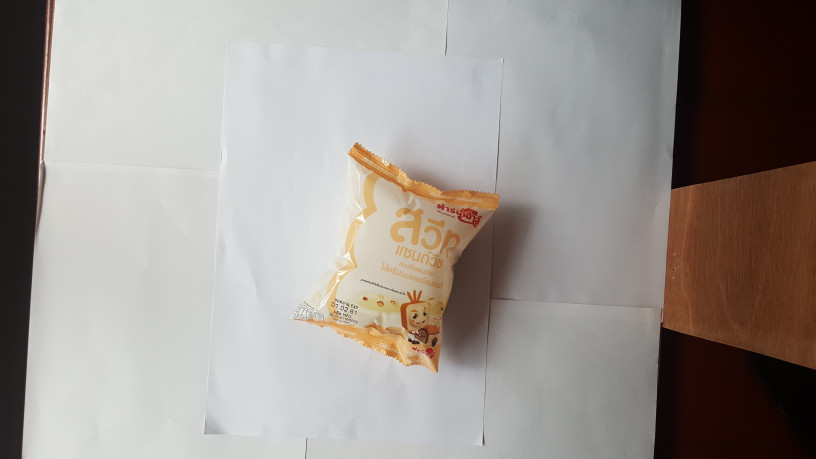farmhouse-sweetsandwich-almond: (283, 133, 516, 387)
